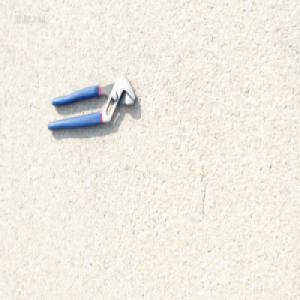Pliers: (46, 74, 135, 132)
